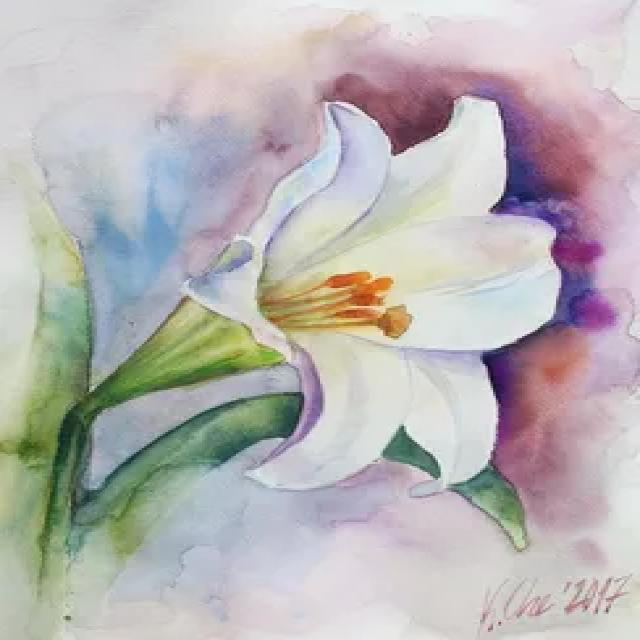lily: (164, 65, 590, 517)
